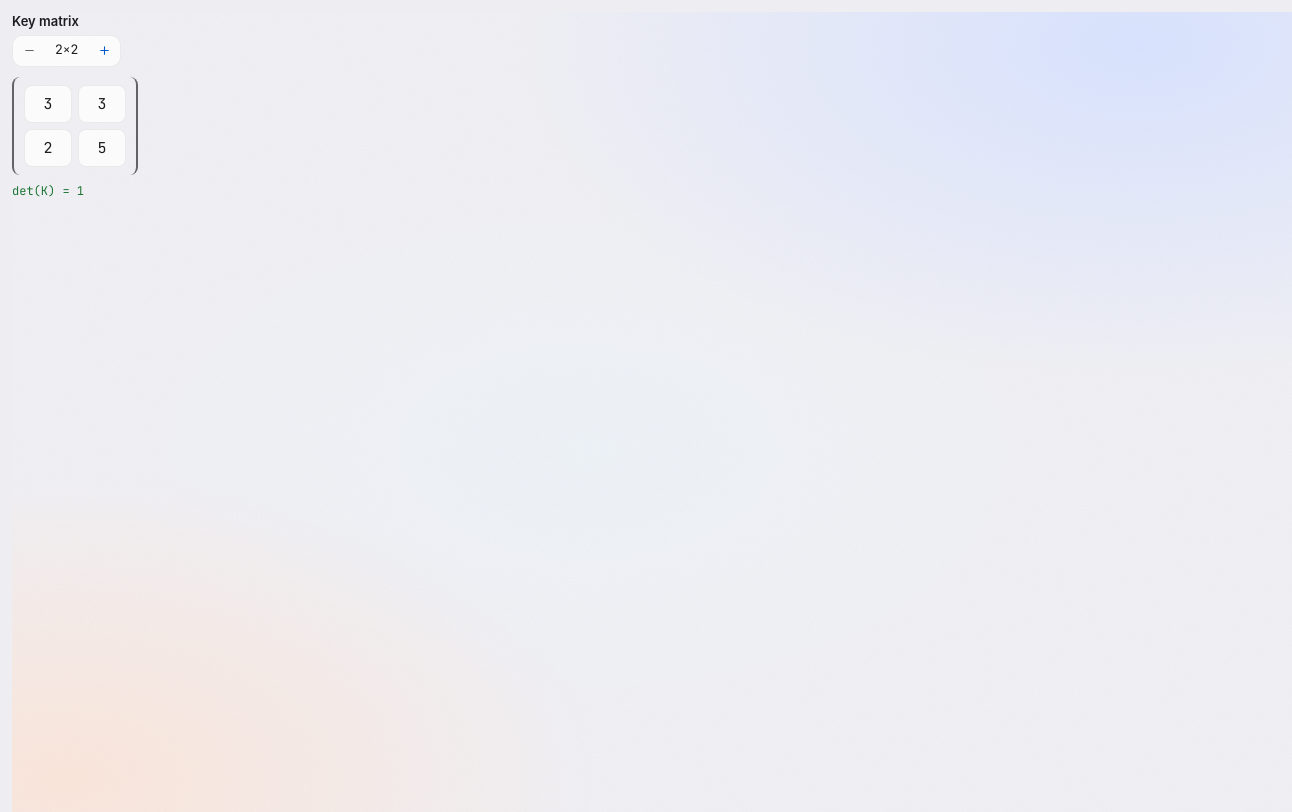
Test: MatrixEditor › grows 2→3 keeping existing values and filling identity
Click the button named "Larger matrix" at (104, 51), box top-left (88, 35), bottom-right (120, 67)
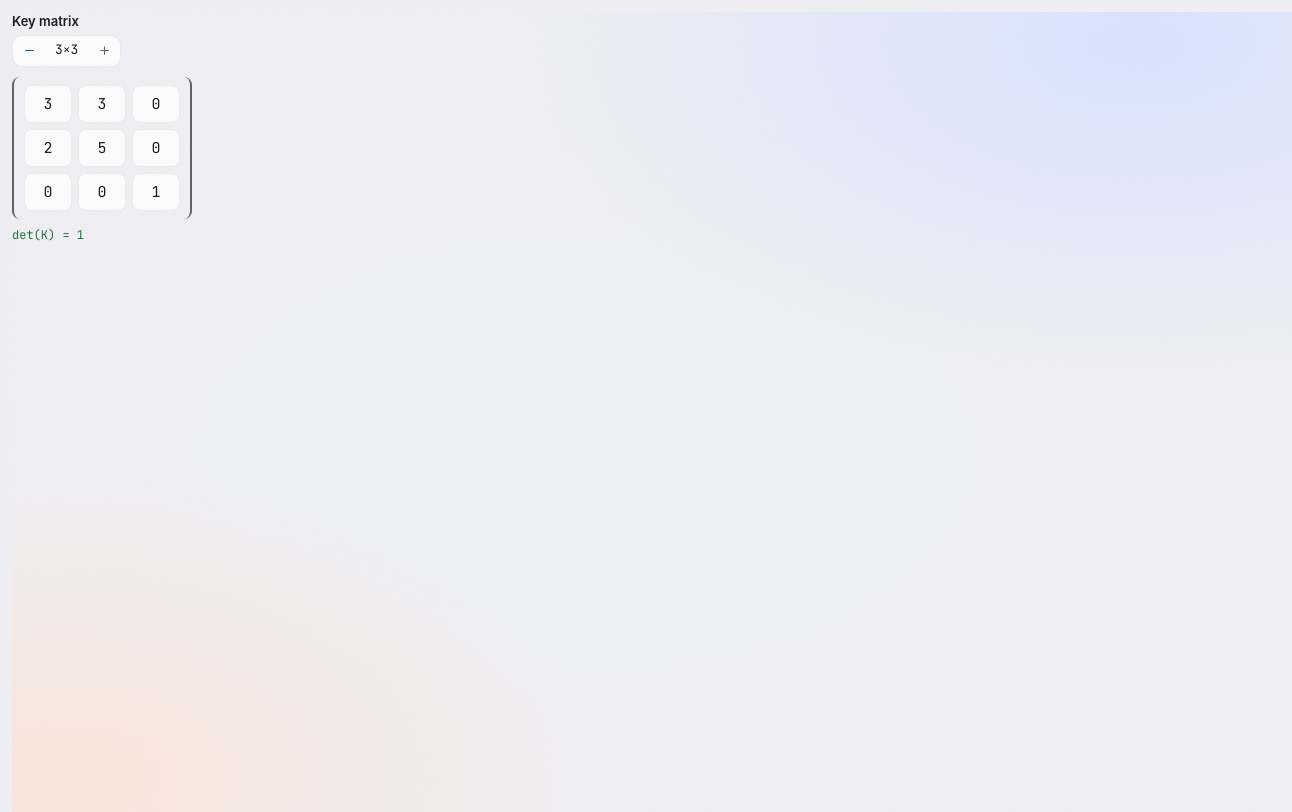
Now the text "3×3" is shown, box top-left (55, 41), bottom-right (78, 58)
